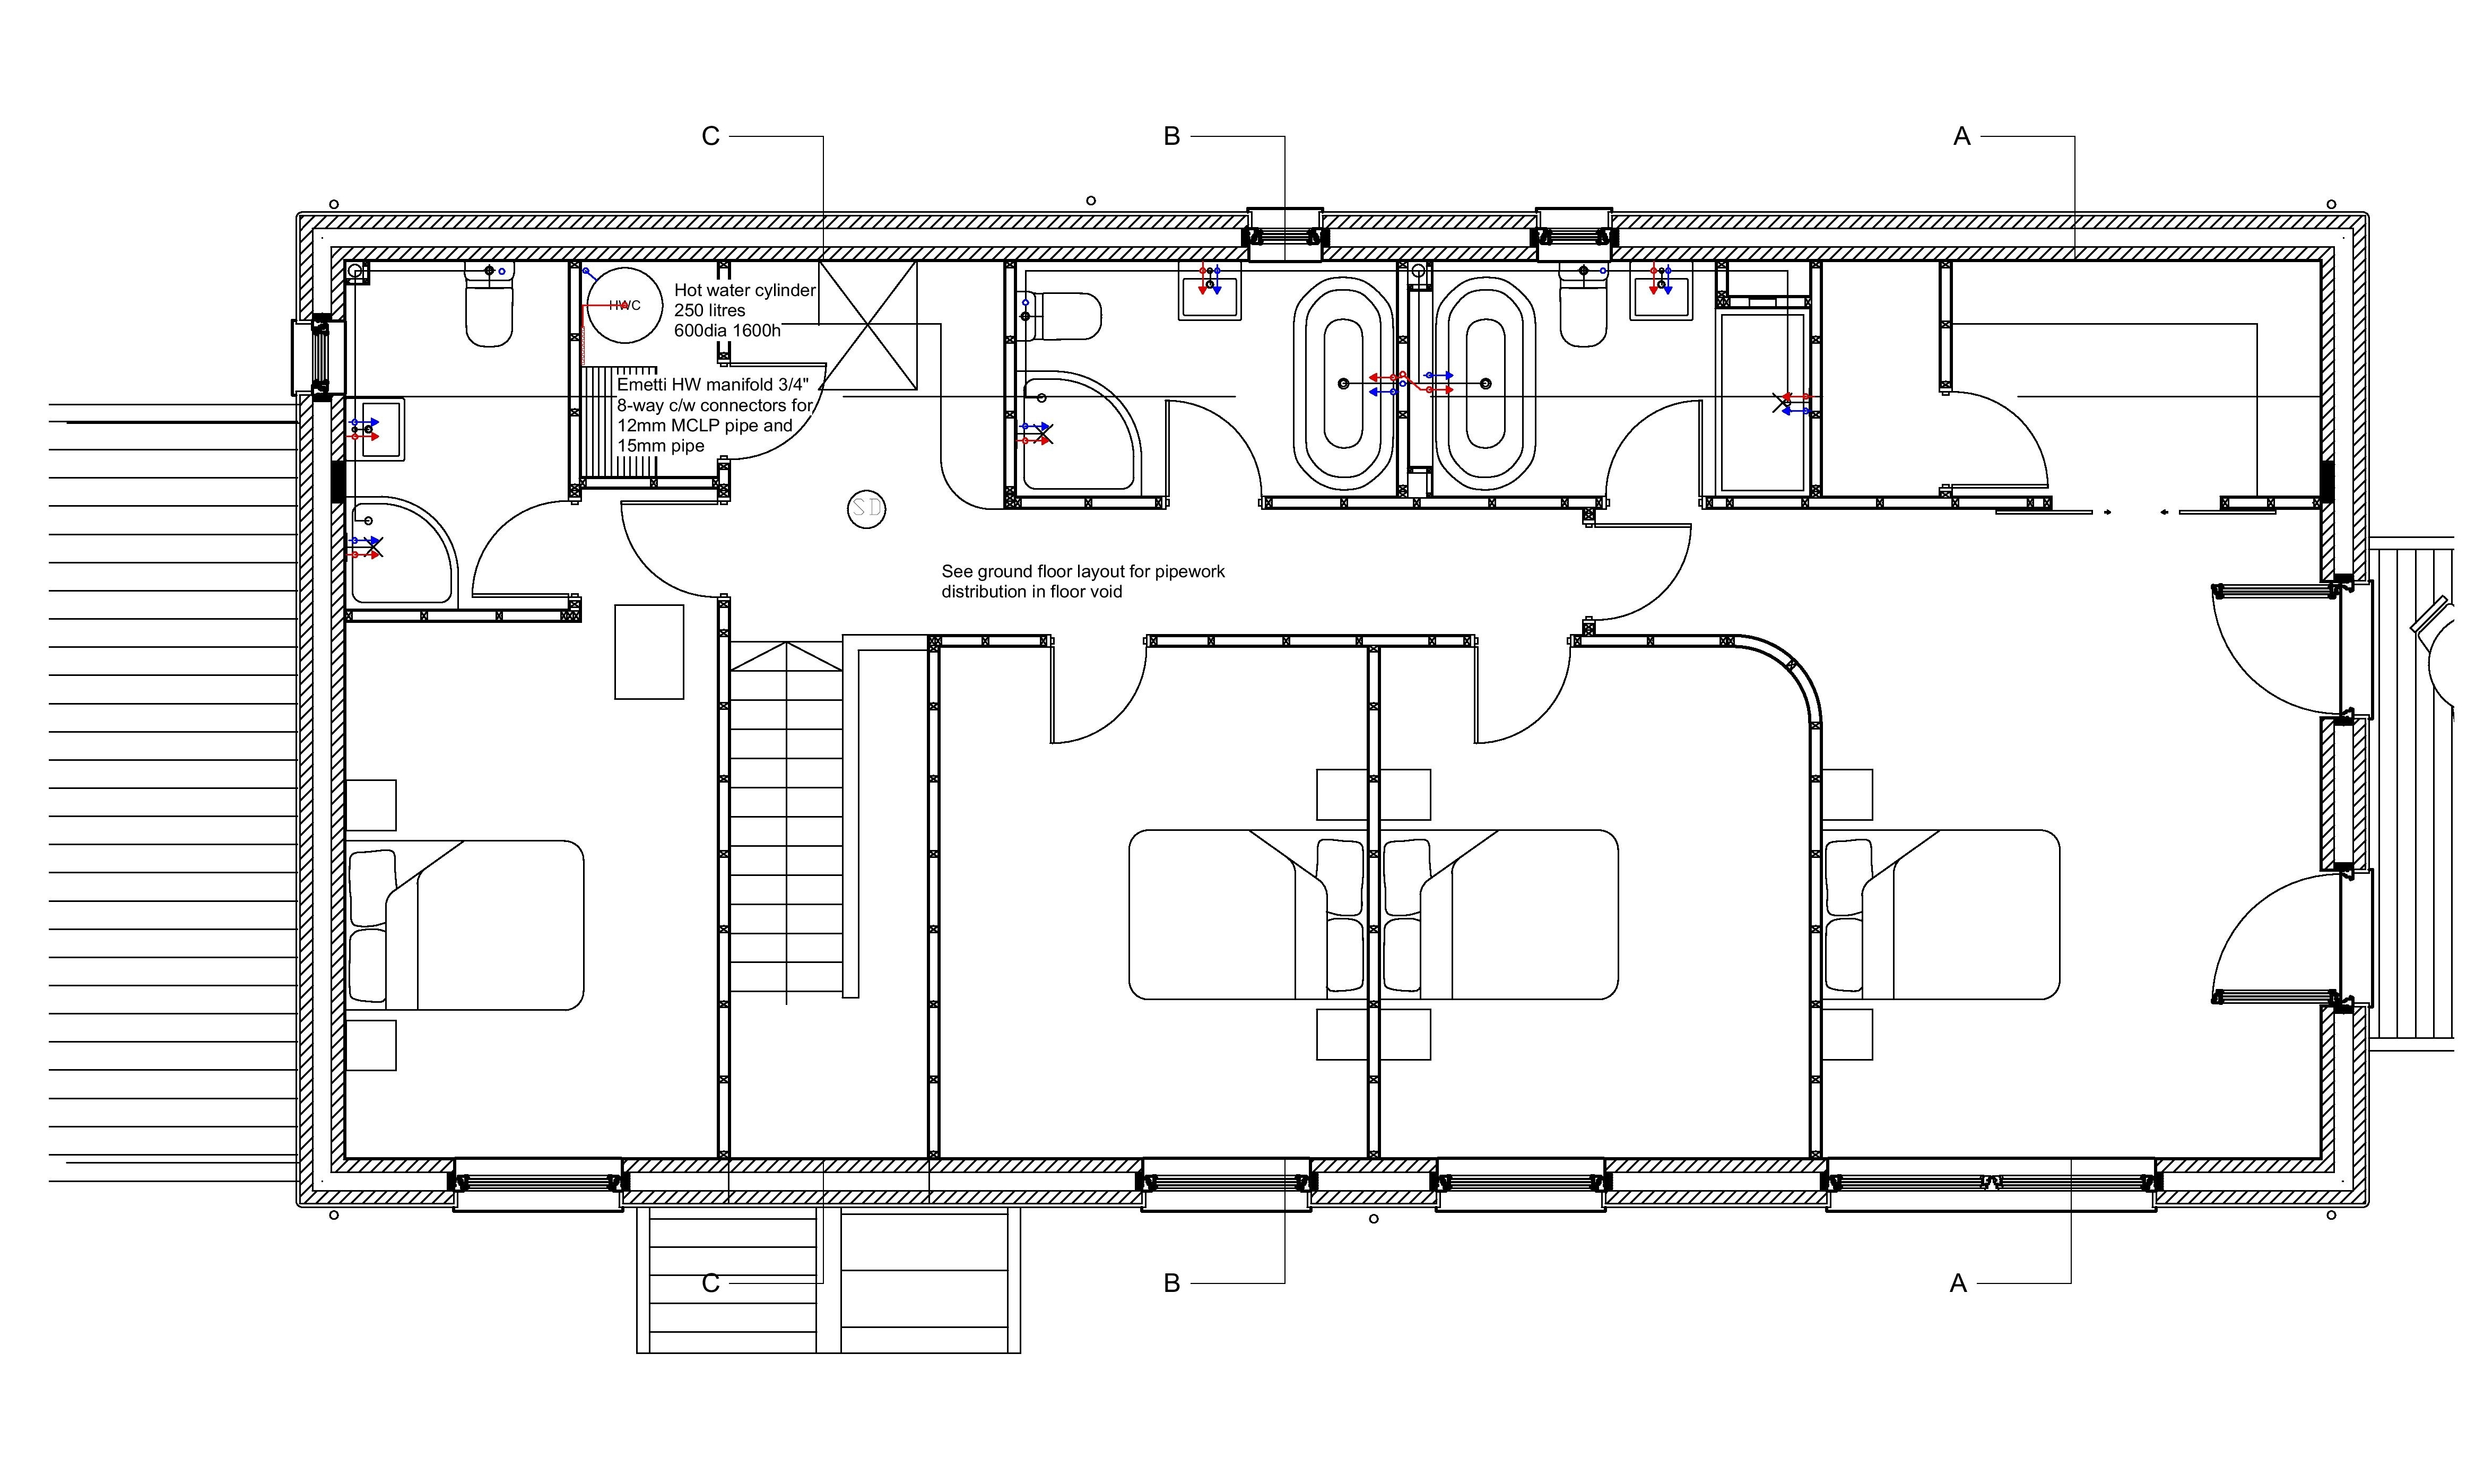room: (325, 597, 947, 1177), (929, 625, 1387, 1170), (1385, 632, 1813, 1157), (1811, 247, 2337, 514), (1018, 265, 1399, 488)
